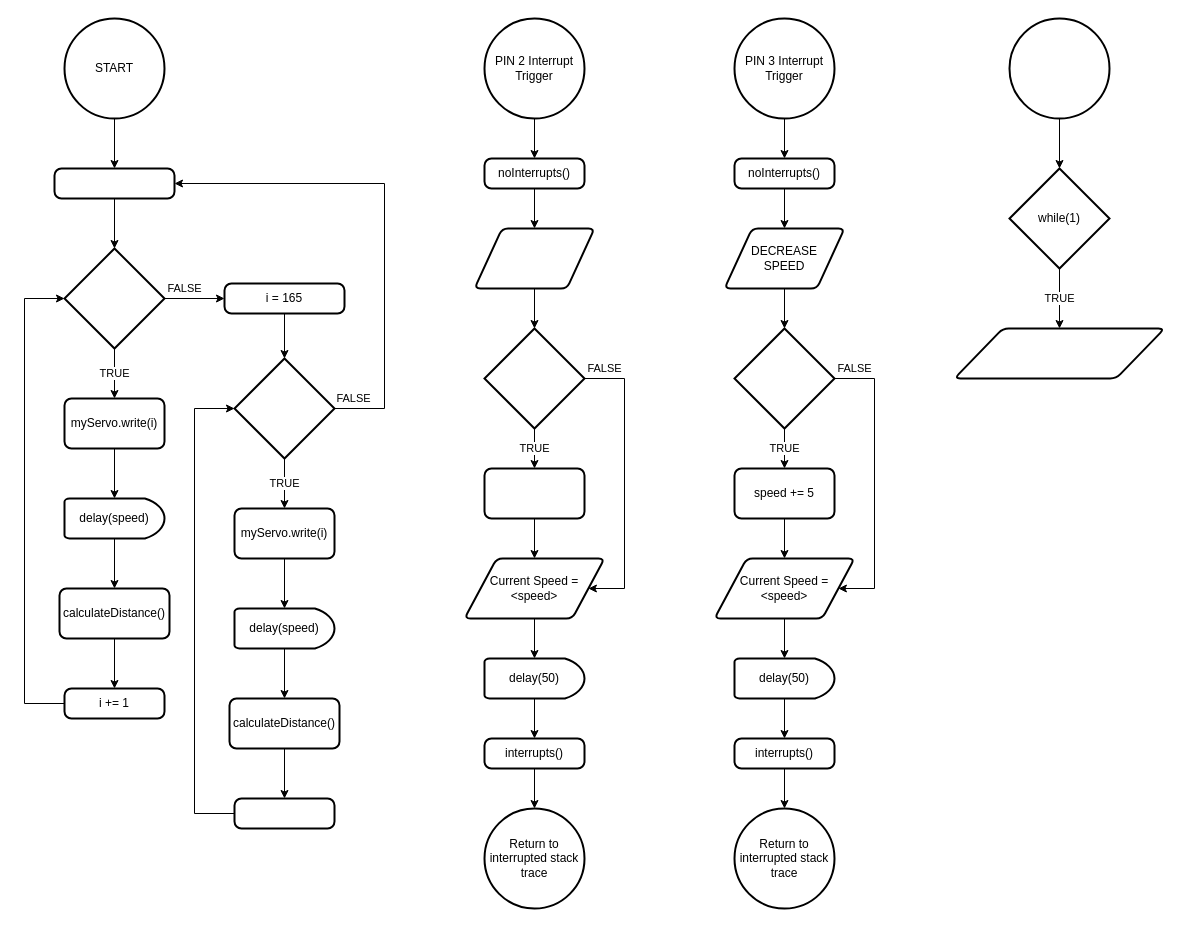
The diagram is 1183 pixels wide and 926 high, and some of its shapes have lost their labels. The centre of each missing label's shape, as x and y in pixels:
EMERGENCY STOP RESET ARDUINO: the point at 1059,353
i -= 1: the point at 284,813
i <= 165?: the point at 114,298
i = 15: the point at 114,183
i > 15?: the point at 284,408
INCREASE SPEED: the point at 534,258
PIN 18 Interrupt Trigger: the point at 1059,68
speed -= 5: the point at 534,493
speed < 30?: the point at 784,378
speed > 5?: the point at 534,378
